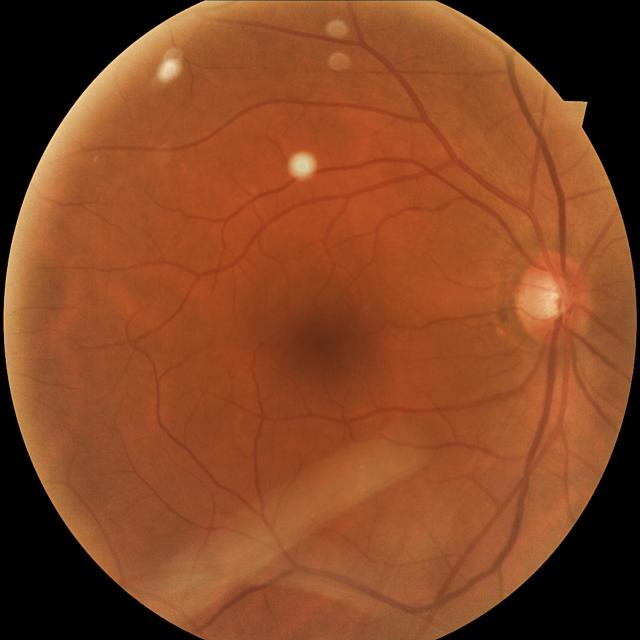OC: (541, 291, 566, 317)
OD: (518, 251, 593, 342)
